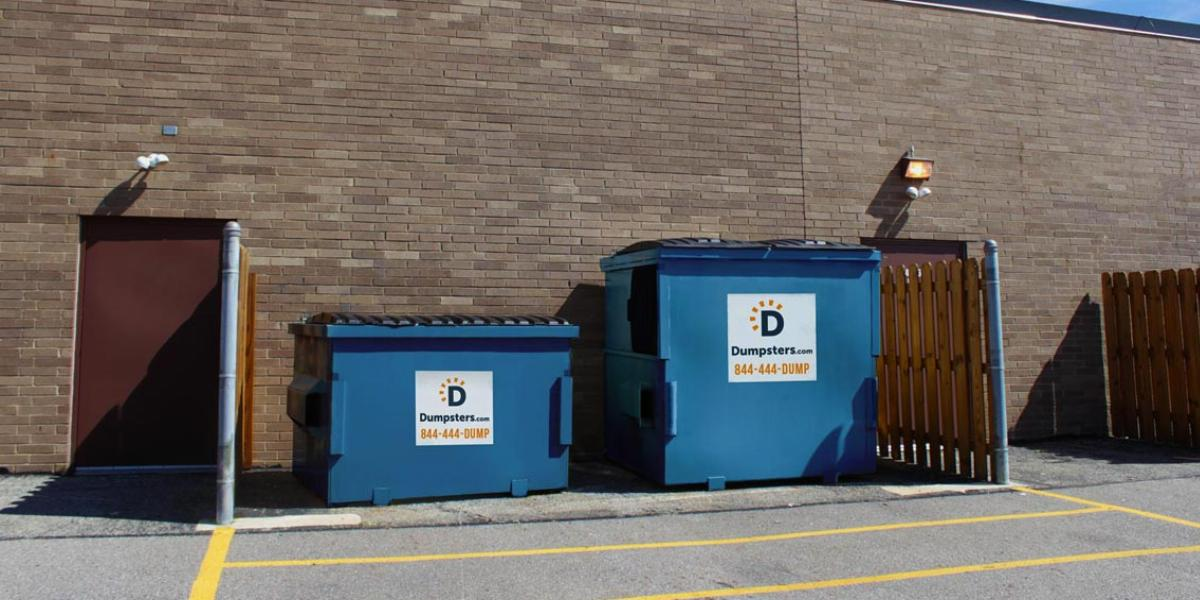Dumpster: (593, 231, 889, 488), (286, 306, 589, 497)
